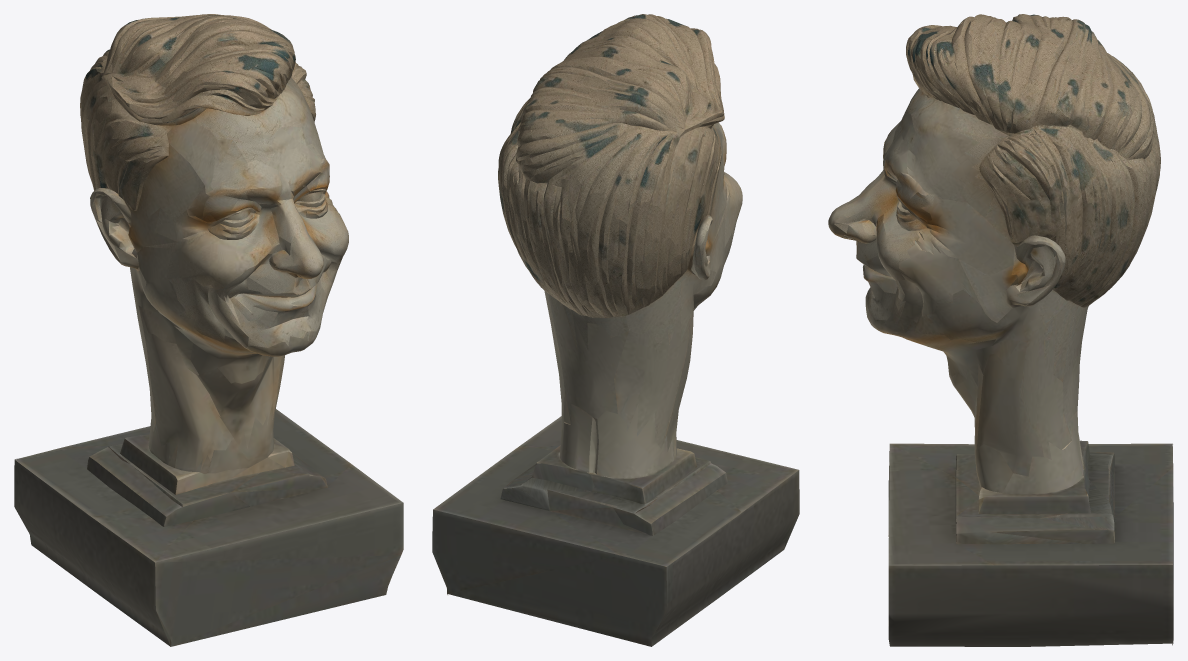
File: musk.glb
3 views of the same model, side by side, from view 1: azimuth 30°, elevation 25°; view 2: azimuth 150°, elevation 25°; view 3: azimuth 270°, elevation 25° (orthographic). The views are drawn at different scales.
Parts seen in each view (by area): view 1: Mesh_0.003; view 2: Mesh_0.003; view 3: Mesh_0.003.
Boxes of the visible parts, x1,y1,x2,y2 form: Mesh_0.003: (14, 14, 403, 646); Mesh_0.003: (432, 14, 799, 646); Mesh_0.003: (828, 14, 1173, 646).
Bounding box in the file's own units: 0.8717 × 1.9 × 1.04.
Materials: 1 (1 with a texture image).
